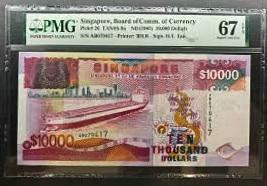10000SingaporeDollar: (18, 55, 248, 165)
